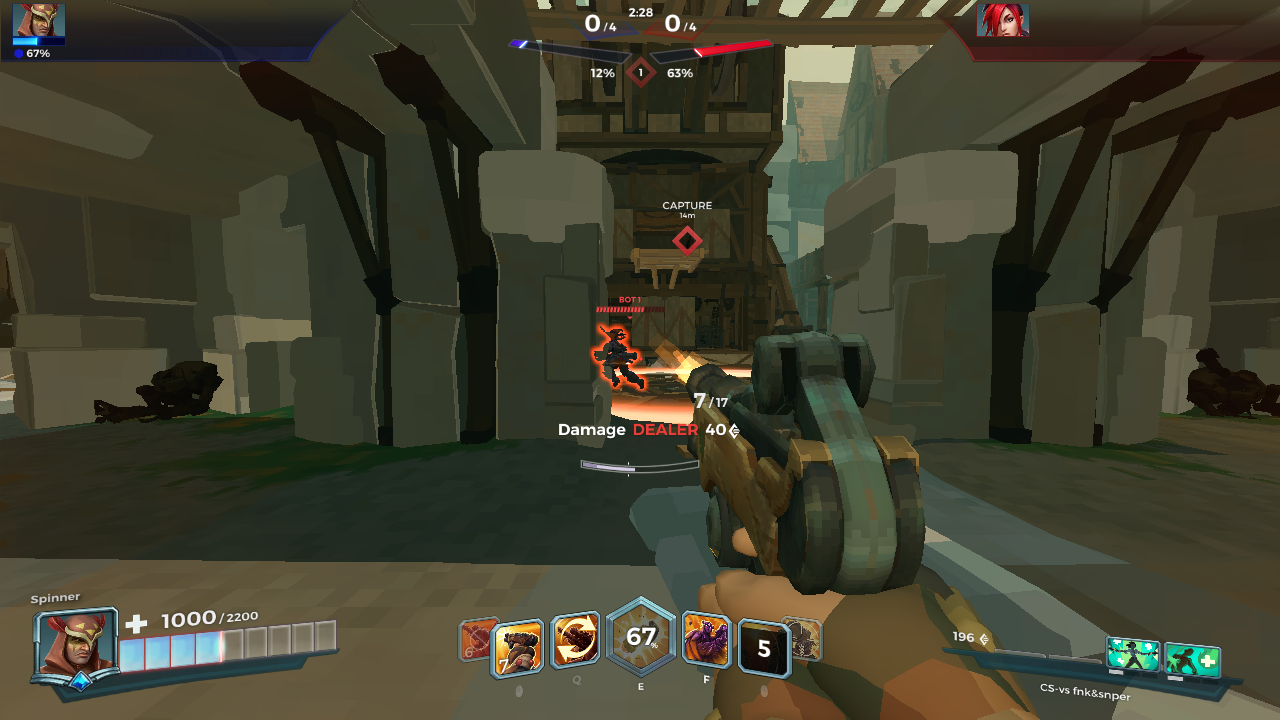model: (586, 321, 650, 398)
